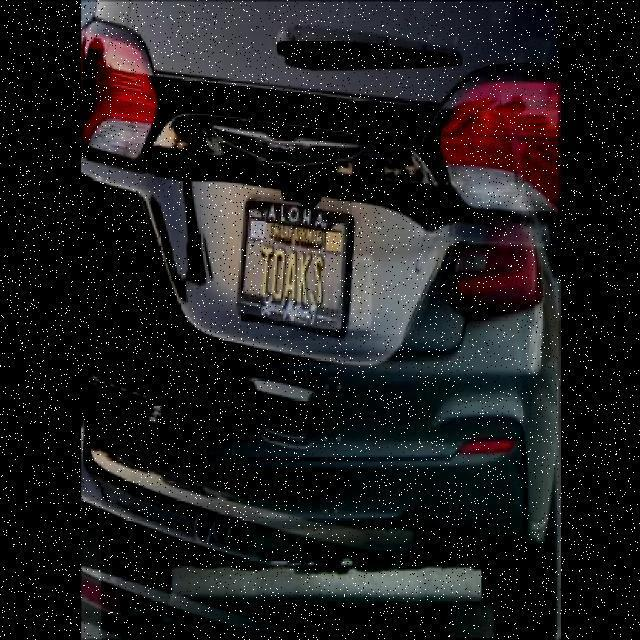LicensePlate: (244, 191, 344, 328)
